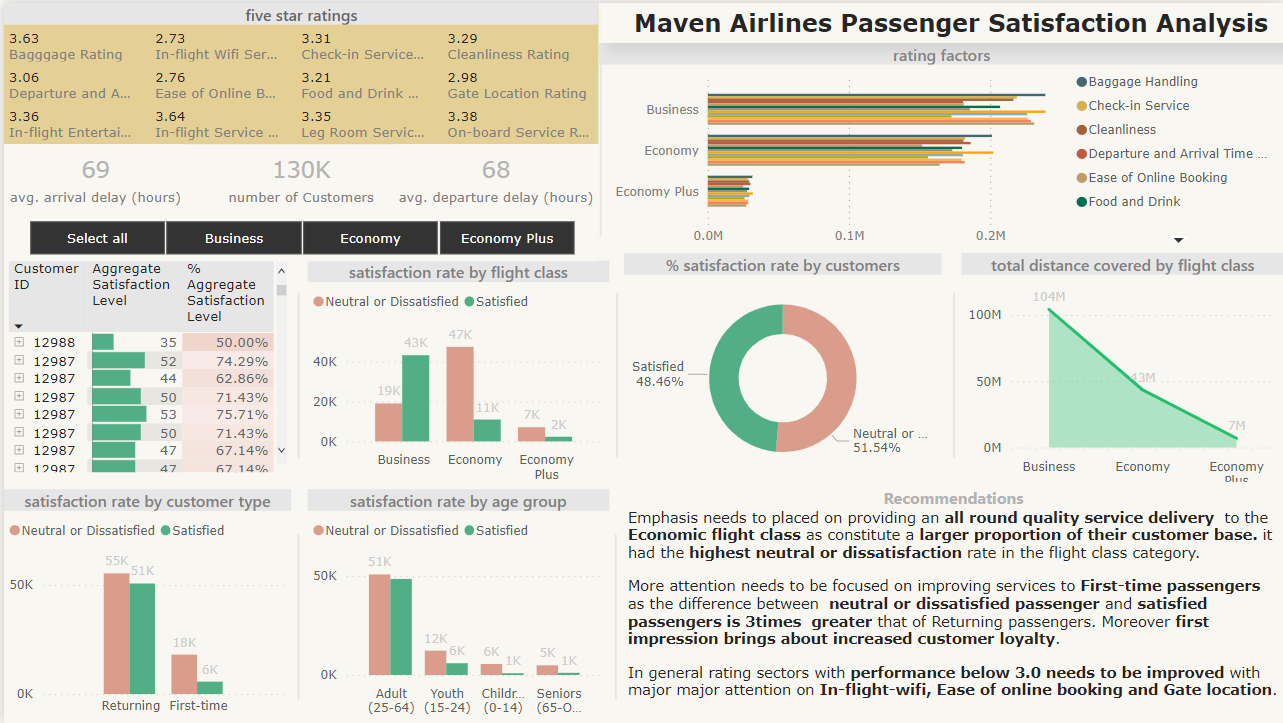

The page's visual inventory and layout, read from the dashboard file:
{"tool":"powerbi","page":{"name":"Page 4","canvas":[1280,720],"ordinal":4},"visuals":[{"type":"pivotTable","title":"Customers vs Travel Type","fields":{"Rows":["airline_passenger_satisfaction.Customer ID","airline_passenger_satisfaction.Flight Class","airline_passenger_satisfaction.Customer Type","airline_passenger_satisfaction.Gender"],"Values":["Sum(airline_passenger_satisfaction.Total Survey Row Level)","Sum(airline_passenger_satisfaction.% Aggregate Satisfaction Level)"]},"box":[0,249.6,287,224.3],"z":0},{"type":"donutChart","title":"% satisfaction rate by customers","fields":{"Category":["airline_passenger_satisfaction.Satisfaction"],"Y":["Sum(airline_passenger_satisfaction.Aggregate Satisfaction Level)"]},"box":[633.2,249.6,323.2,224.3],"z":1000},{"type":"clusteredColumnChart","title":"satisfaction rate by flight class","fields":{"Y":["CountNonNull(airline_passenger_satisfaction.Satisfaction)"],"Series":["airline_passenger_satisfaction.Satisfaction"],"Category":["airline_passenger_satisfaction.Flight Class"]},"box":[297.9,249.6,335.3,224.3],"z":2000},{"type":"clusteredColumnChart","title":"satisfaction rate by customer type","fields":{"Category":["airline_passenger_satisfaction.Customer Type"],"Y":["CountNonNull(airline_passenger_satisfaction.Satisfaction)"],"Series":["airline_passenger_satisfaction.Satisfaction"]},"box":[297.9,474,344.9,246],"z":3000},{"type":"clusteredColumnChart","title":"satisfaction rate by reasons for travel","fields":{"Y":["CountNonNull(airline_passenger_satisfaction.Satisfaction)"],"Series":["airline_passenger_satisfaction.Satisfaction"],"Category":["airline_passenger_satisfaction.Reasons for Travel"]},"box":[0,474,297.9,223.1],"z":4000},{"type":"clusteredColumnChart","title":"satisfaction rate by age group","fields":{"Y":["CountNonNull(airline_passenger_satisfaction.Satisfaction)"],"Series":["airline_passenger_satisfaction.Satisfaction"],"Category":["airline_passenger_satisfaction.Age Bucket"]},"box":[956.4,249.6,323.2,224.3],"z":5000},{"type":"clusteredBarChart","title":"rating factors","fields":{"Y":["Sum(airline_passenger_satisfaction.Baggage Handling)","Sum(airline_passenger_satisfaction.Check-in Service)","Sum(airline_passenger_satisfaction.Cleanliness)","Sum(airline_passenger_satisfaction.Departure and Arrival Time Convenience)","Sum(airline_passenger_satisfaction.Ease of Online Booking)","Sum(airline_passenger_satisfaction.Food and Drink)","Sum(airline_passenger_satisfaction.Gate Location)","Sum(airline_passenger_satisfaction.In-flight Service)","Sum(airline_passenger_satisfaction.In-flight Entertainment)","Sum(airline_passenger_satisfaction.In-flight Wifi Service)","Sum(airline_passenger_satisfaction.Leg Room Service)","Sum(airline_passenger_satisfaction.On-board Service)"],"Category":["airline_passenger_satisfaction.Flight Class"]},"box":[594.6,0,685,249.6],"z":6000},{"type":"clusteredColumnChart","title":"satisfaction rate by gender","fields":{"Y":["CountNonNull(airline_passenger_satisfaction.Satisfaction)"],"Series":["airline_passenger_satisfaction.Satisfaction"],"Category":["airline_passenger_satisfaction.Gender"]},"box":[642.8,474,323.2,246],"z":8000},{"type":"multiRowCard","title":"five star ratings","fields":{"Values":["airline_passenger_satisfaction.Bagggage Rating","airline_passenger_satisfaction.In-flight  Wifi Service Rating","airline_passenger_satisfaction.Check-in Service Rating","airline_passenger_satisfaction.Cleanliness Rating","airline_passenger_satisfaction.Departure and Arrival Time Convenience Rating","airline_passenger_satisfaction.Ease of Online Booking Rating","airline_passenger_satisfaction.Food and Drink Rating","airline_passenger_satisfaction.Gate Location Rating","airline_passenger_satisfaction.In-flight Entertainment Rating","airline_passenger_satisfaction.In-flight Service Rating","airline_passenger_satisfaction.Leg Room Service Rating","airline_passenger_satisfaction.On-board Service Rating"]},"box":[0,0,594.6,149.5],"z":8500},{"type":"clusteredColumnChart","title":"delay rate per hour","fields":{"Category":["airline_passenger_satisfaction.Flight Class"],"Y":["Sum(airline_passenger_satisfaction.Arrival Delay)","Sum(airline_passenger_satisfaction.Departure Delay)"]},"box":[966,474,313.6,246],"z":9000},{"type":"slicer","fields":{"Values":["airline_passenger_satisfaction.Flight Class"]},"box":[0,193,594.6,56.7],"z":10000},{"type":"card","fields":{"Values":["airline_passenger_satisfaction.Number of Customers"]},"box":[0,141.1,594.6,57.9],"z":11000},{"type":"shape","box":[588.5,39.8,15.7,193],"z":12000},{"type":"shape","box":[281,289.4,14.5,165.2],"z":13000},{"type":"shape","box":[625.9,289.4,14.5,165.2],"z":14000},{"type":"shape","box":[947.9,289.4,8.4,165.2],"z":15000},{"type":"shape","box":[956.4,531.9,8.4,165.2],"z":16000},{"type":"shape","box":[634.4,531.9,8.4,165.2],"z":17000},{"type":"shape","box":[289.4,531.9,8.4,165.2],"z":18000}]}

Visuals, with their boxes in screenshot pixels (x1, y1, x2, y2), scaled from the page's 1280x720 canvas onto the 1283x723 screenshot:
"Customers vs Travel Type" pivotTable: x1=0, y1=251, x2=288, y2=476
"% satisfaction rate by customers" donutChart: x1=635, y1=251, x2=959, y2=476
"satisfaction rate by flight class" clusteredColumnChart: x1=299, y1=251, x2=635, y2=476
"satisfaction rate by customer type" clusteredColumnChart: x1=299, y1=476, x2=644, y2=722
"satisfaction rate by reasons for travel" clusteredColumnChart: x1=0, y1=476, x2=299, y2=700
"satisfaction rate by age group" clusteredColumnChart: x1=959, y1=251, x2=1282, y2=476
"rating factors" clusteredBarChart: x1=596, y1=0, x2=1282, y2=251
"satisfaction rate by gender" clusteredColumnChart: x1=644, y1=476, x2=968, y2=722
"five star ratings" multiRowCard: x1=0, y1=0, x2=596, y2=150
"delay rate per hour" clusteredColumnChart: x1=968, y1=476, x2=1282, y2=722
slicer - airline_passenger_satisfaction.Flight Class: x1=0, y1=194, x2=596, y2=251
card - airline_passenger_satisfaction.Number of Customers: x1=0, y1=142, x2=596, y2=200
shape: x1=590, y1=40, x2=606, y2=234
shape: x1=282, y1=291, x2=296, y2=456
shape: x1=627, y1=291, x2=642, y2=456
shape: x1=950, y1=291, x2=959, y2=456
shape: x1=959, y1=534, x2=967, y2=700
shape: x1=636, y1=534, x2=644, y2=700
shape: x1=290, y1=534, x2=298, y2=700
